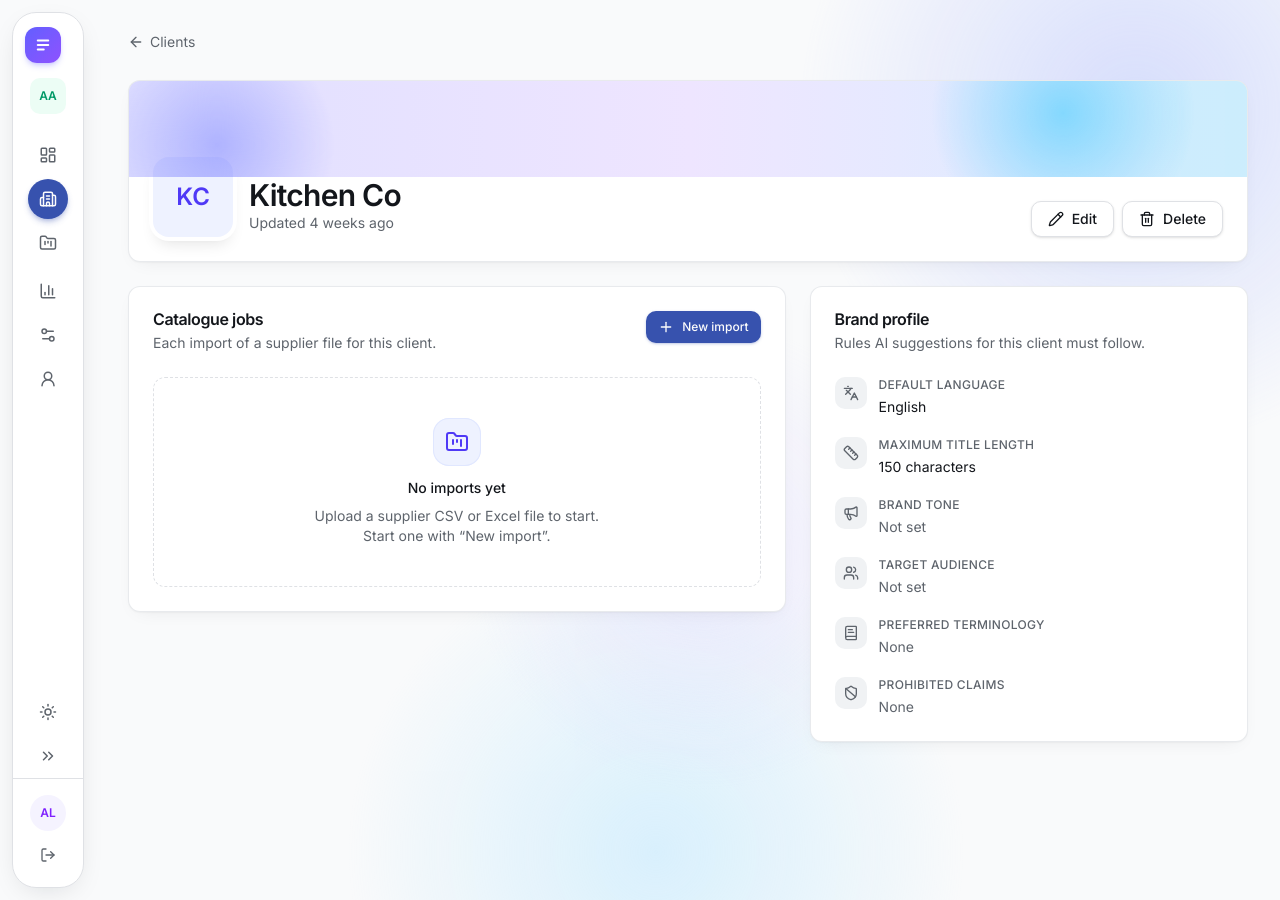
Scenario: starting an import from a client › creates a job and opens it on the upload step
expect the text "No imports yet" is shown: met, box [408, 478, 506, 498]
Click the button "New import" at (703, 327), box [646, 311, 761, 343]
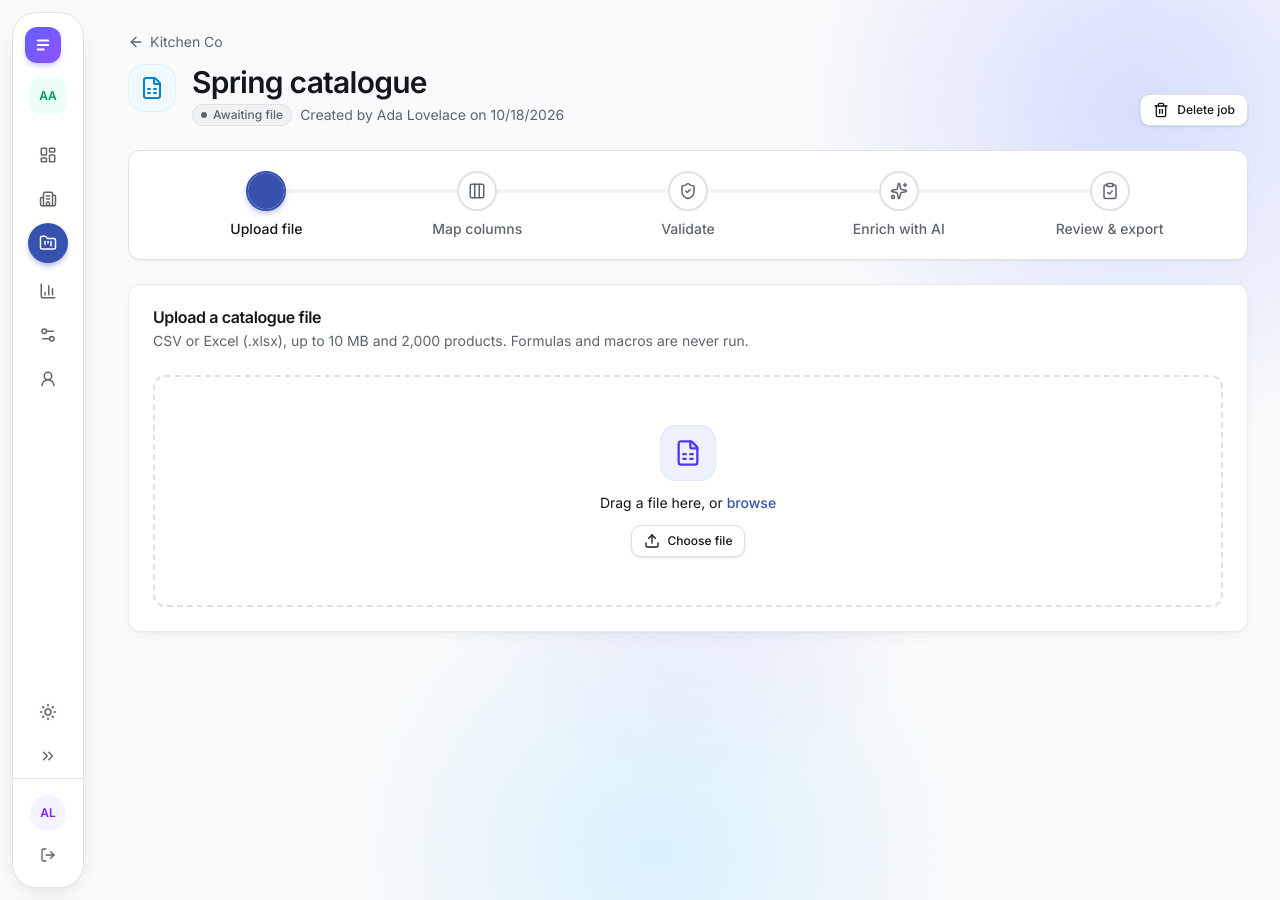
expect the heading "Upload a catalogue file" is shown: met, box [153, 307, 321, 327]
